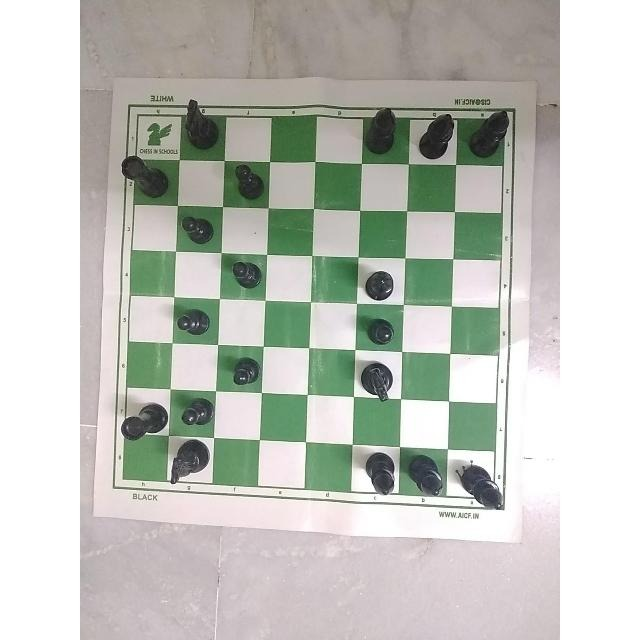black-bishop: (464, 90, 520, 163), (356, 100, 404, 162), (458, 459, 503, 523), (412, 104, 460, 159), (406, 452, 445, 510), (353, 255, 399, 303), (358, 450, 400, 500)
black-knight: (168, 437, 210, 501), (177, 94, 218, 153), (360, 361, 400, 409)
black-pawn: (171, 304, 212, 350), (353, 314, 407, 348), (175, 391, 217, 434), (177, 209, 218, 253), (228, 348, 261, 395), (229, 254, 264, 297), (229, 163, 264, 203)
black-rook: (119, 386, 167, 449), (113, 148, 169, 198)
